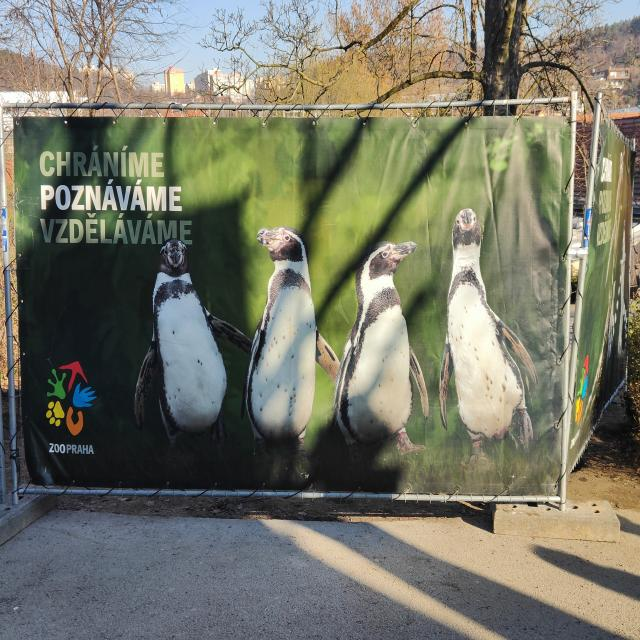bird: (134, 238, 252, 469), (440, 208, 540, 462), (241, 226, 340, 455), (333, 240, 429, 456)
